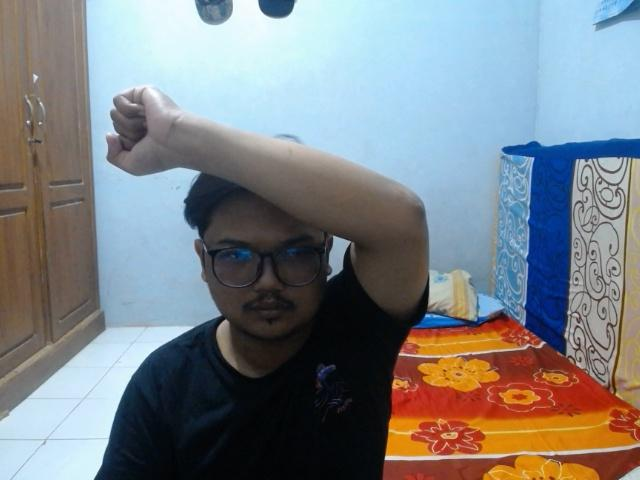Grab: (98, 80, 183, 180)
